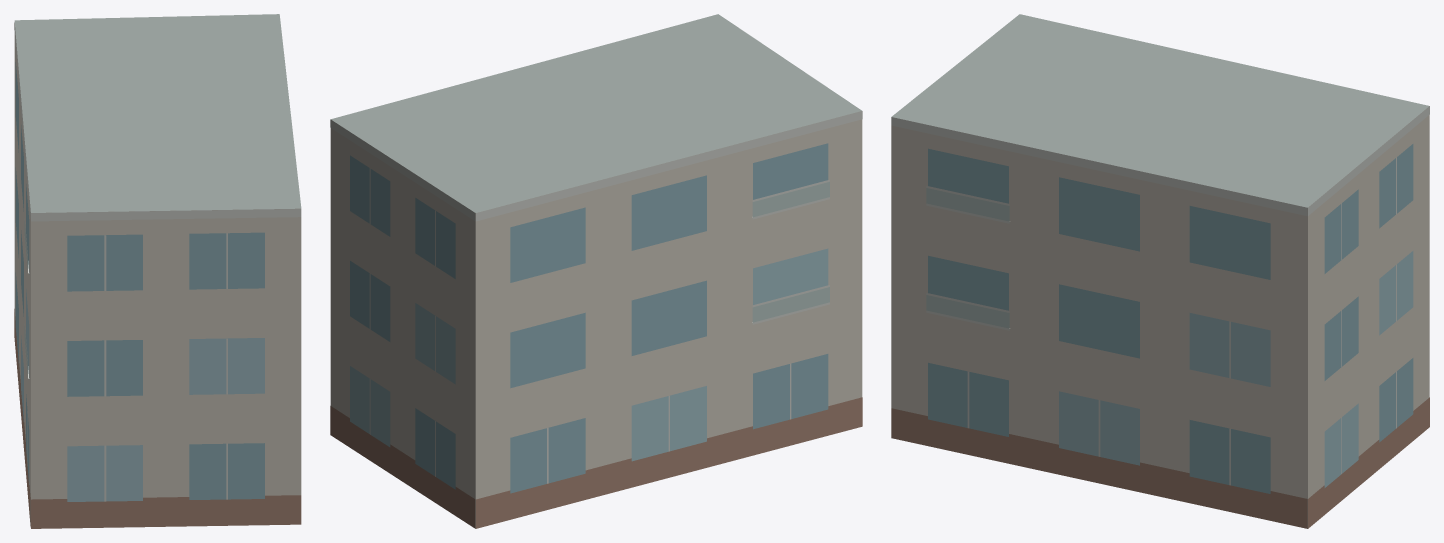
File: survey-upis-32795224.glb
3 renders of one model, left to right at view 1: azimuth 30°, elevation 25°; view 2: azimuth 150°, elevation 25°; view 3: azimuth 270°, elevation 25°, orthographic.
Visible parts, largest first — view 1: survey-upis-32795224.tmp; view 2: survey-upis-32795224.tmp; view 3: survey-upis-32795224.tmp.
Boxes of the visible parts, bbox=[...] form: survey-upis-32795224.tmp: bbox=[14, 14, 301, 528]; survey-upis-32795224.tmp: bbox=[330, 14, 862, 528]; survey-upis-32795224.tmp: bbox=[891, 14, 1429, 528].
Size of the model in its own units: 11.85 by 9.15 by 13.92.
